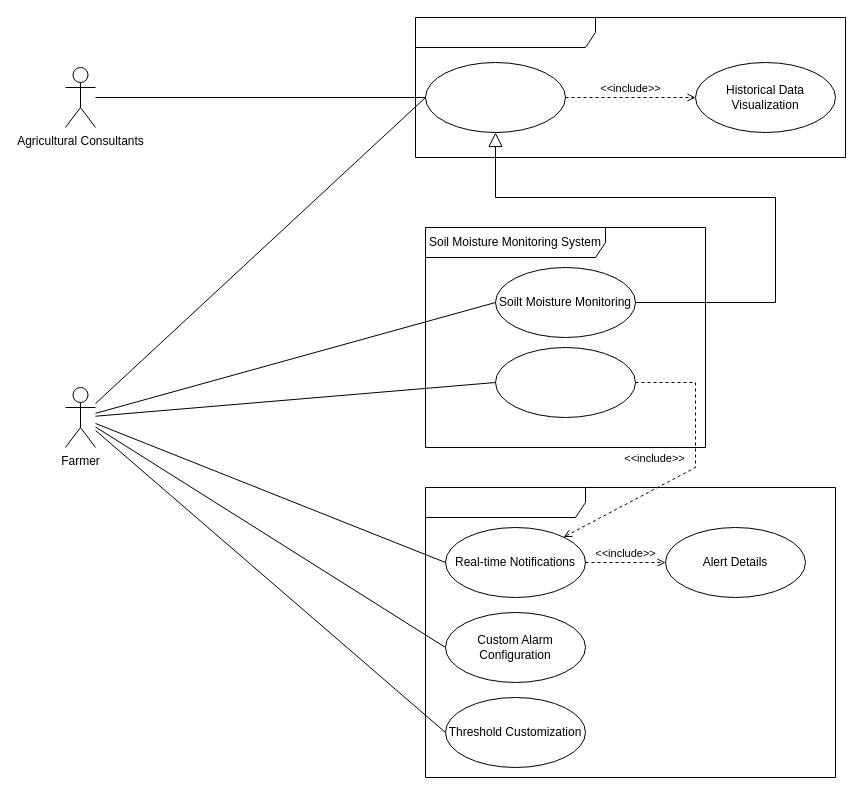
Some shapes in this 863 by 795 pixel diagram are drawn without their labels. The box of each missing label's shape, as (x1, y1, x2, y2) in pixels:
Alert Notification System: (424, 486, 836, 778)
Data Management System: (414, 16, 846, 158)
Sensor Data Storage: (424, 62, 566, 132)
Soil Moisture Alert: (494, 346, 636, 418)
